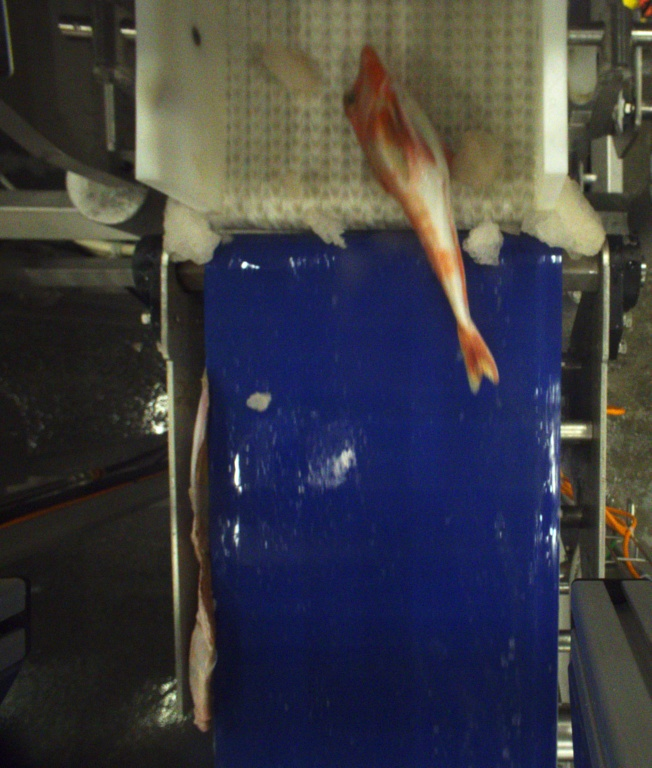GUU: (342, 41, 498, 392)
